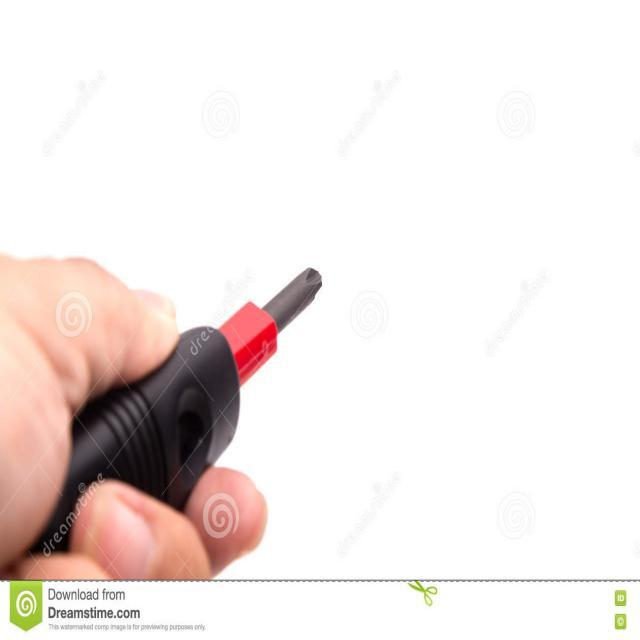screwdriver: (29, 258, 327, 566)
